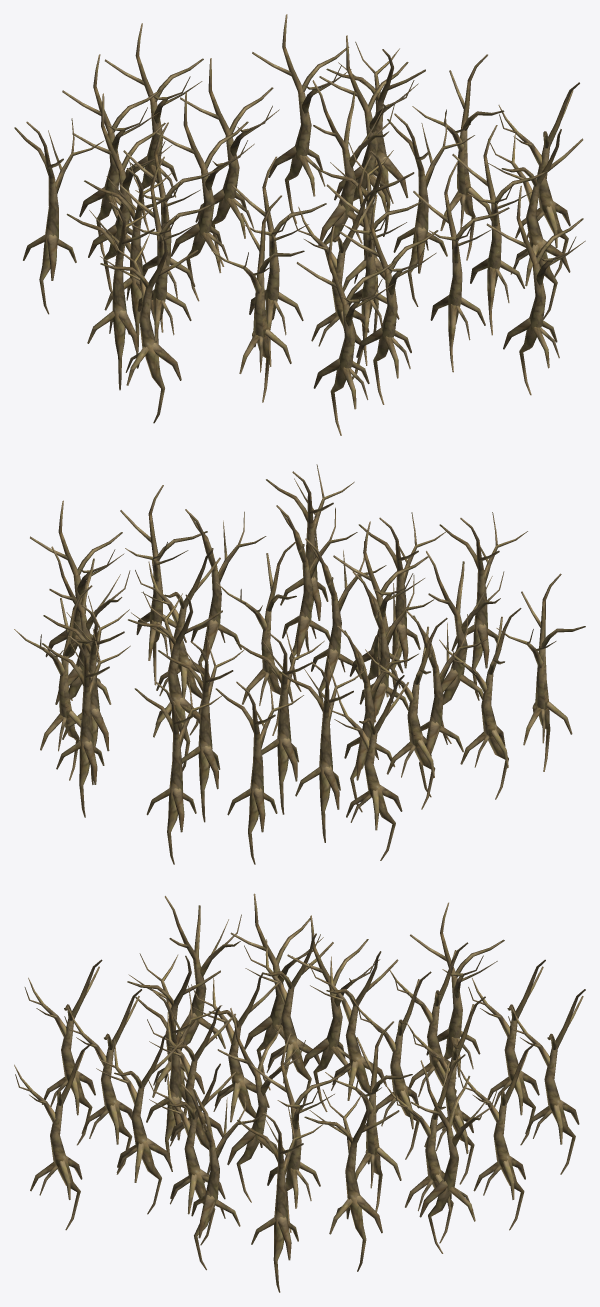
File: tree.dae
The picture shows the model from 3 angles, top to bottom: view 1: azimuth 30°, elevation 25°; view 2: azimuth 150°, elevation 25°; view 3: azimuth 270°, elevation 25°; orthographic projection. The views are drawn at different scales.
Visible parts, largest first — view 1: trees; view 2: trees; view 3: trees.
Boxes of the visible parts, x1,y1,x2,y2 form: trees: (14,14,585,435); trees: (14,464,585,864); trees: (14,893,585,1292).
Size of the model in its own units: 45.83 by 45.48 by 16.53.
Materials: 1 (1 with a texture image).
